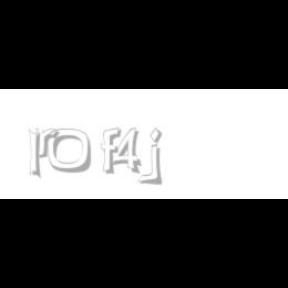4: (110, 128, 142, 174)
I: (28, 128, 42, 180)
O: (48, 128, 92, 174)
f: (101, 128, 125, 174)
j: (148, 128, 176, 186)
r: (36, 128, 62, 158)
